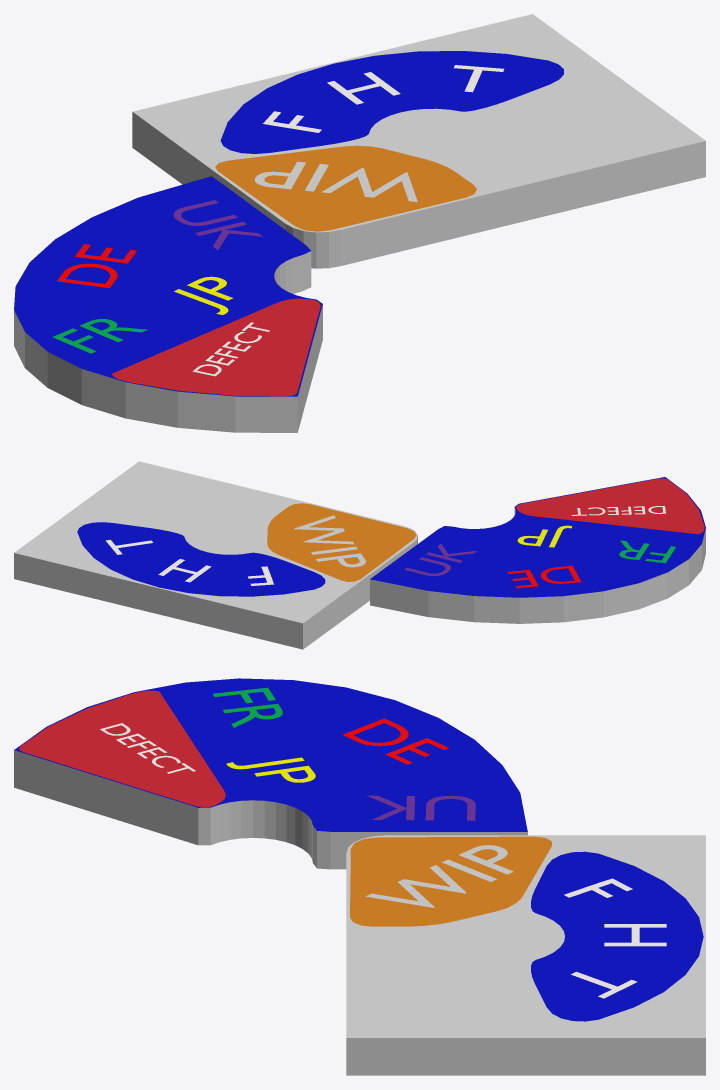
File: production_zones_static.dae
3 renders of one model, top to bottom at view 1: azimuth 30°, elevation 25°; view 2: azimuth 150°, elevation 25°; view 3: azimuth 270°, elevation 25°, orthographic. The views are drawn at different scales.
Parts seen in each view (by area): view 1: Cube, Circle.001, zones, Plane.001, Circle, Plane, Text, zones.001, Text.004, Text.005, Text.003, Text.002 (+1 smaller); view 2: Cube, Circle.001, zones, Circle, Plane.001, Plane, Text, zones.001, Text.004, Text.005, Text.003, Text.002 (+1 smaller); view 3: Cube, Circle.001, zones, Plane.001, Circle, Plane, Text, zones.001, Text.004, Text.005, Text.003, Text.002 (+1 smaller).
Boxes of the visible parts, bbox=[...] form: Cube: bbox=[132, 14, 705, 268]; Circle.001: bbox=[14, 176, 322, 396]; zones: bbox=[220, 51, 563, 153]; Plane.001: bbox=[215, 145, 476, 231]; Circle: bbox=[14, 251, 322, 432]; Plane: bbox=[112, 298, 320, 396]; Text: bbox=[254, 161, 417, 201]; zones.001: bbox=[263, 65, 504, 132]; Text.004: bbox=[57, 244, 136, 288]; Text.005: bbox=[173, 200, 262, 249]; Text.003: bbox=[52, 319, 147, 353]; Text.002: bbox=[174, 276, 232, 314]; Cube: bbox=[14, 461, 417, 649]; Circle.001: bbox=[370, 477, 705, 597]; zones: bbox=[77, 522, 325, 596]; Circle: bbox=[370, 508, 705, 623]; Plane.001: bbox=[267, 503, 416, 581]; Plane: bbox=[516, 478, 704, 534]; Text: bbox=[294, 515, 365, 567]; zones.001: bbox=[105, 539, 273, 585]; Text.004: bbox=[507, 565, 581, 588]; Text.005: bbox=[404, 544, 476, 575]; Text.003: bbox=[619, 540, 675, 563]; Text.002: bbox=[517, 525, 571, 547]; Cube: bbox=[346, 835, 705, 1075]; Circle.001: bbox=[14, 678, 527, 831]; zones: bbox=[531, 851, 703, 1021]; Plane.001: bbox=[350, 836, 551, 926]; Circle: bbox=[14, 750, 527, 869]; Plane: bbox=[19, 690, 225, 807]; Text: bbox=[365, 845, 513, 907]; zones.001: bbox=[564, 878, 666, 998]; Text.004: bbox=[342, 718, 448, 764]; Text.005: bbox=[367, 795, 475, 820]; Text.003: bbox=[213, 687, 282, 727]; Text.002: bbox=[226, 757, 315, 782].
Bounding box in the file's own units: 1.03 × 0.834 × 0.0502.
